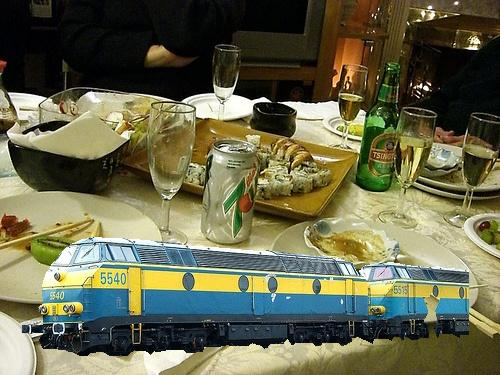tampered: (23, 238, 469, 356)
